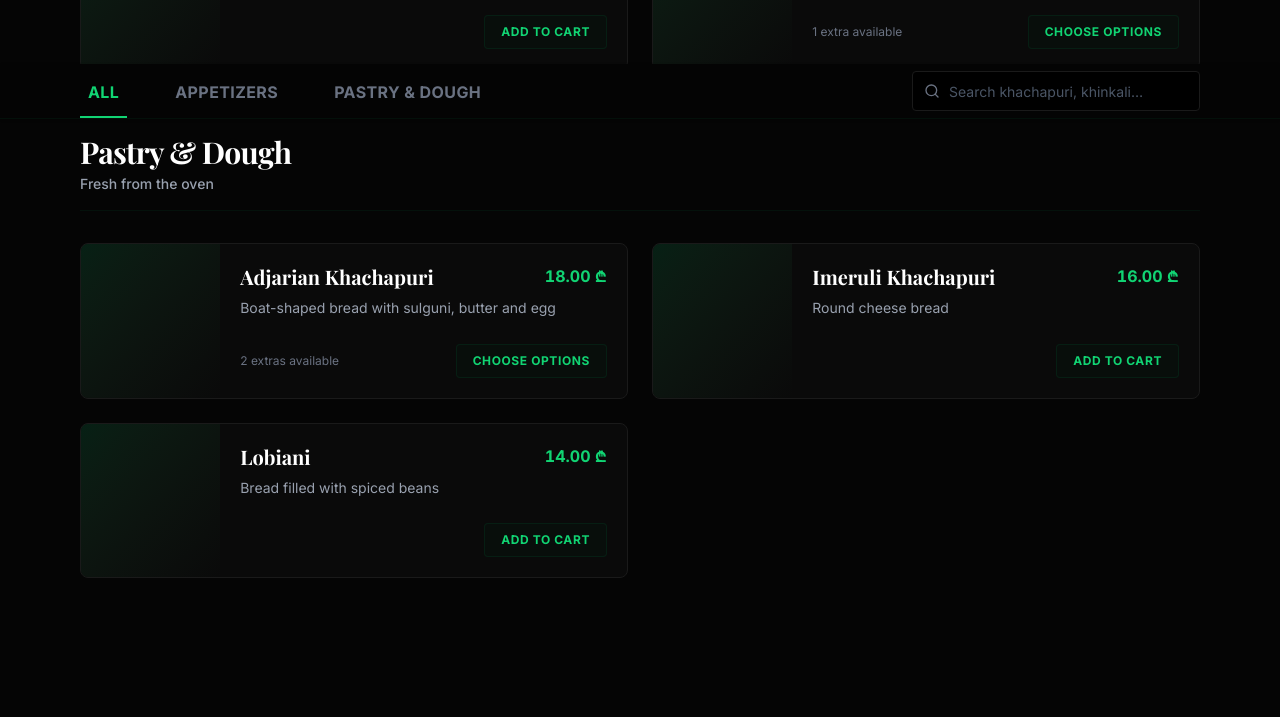
Menu page › adds a dish with modifiers from the options dialog
(page scrolled)
Step 1. Click the button with aria-label "Choose options for Adjarian Khachapuri" → point(531, 360), box 456,344 -> 607,378
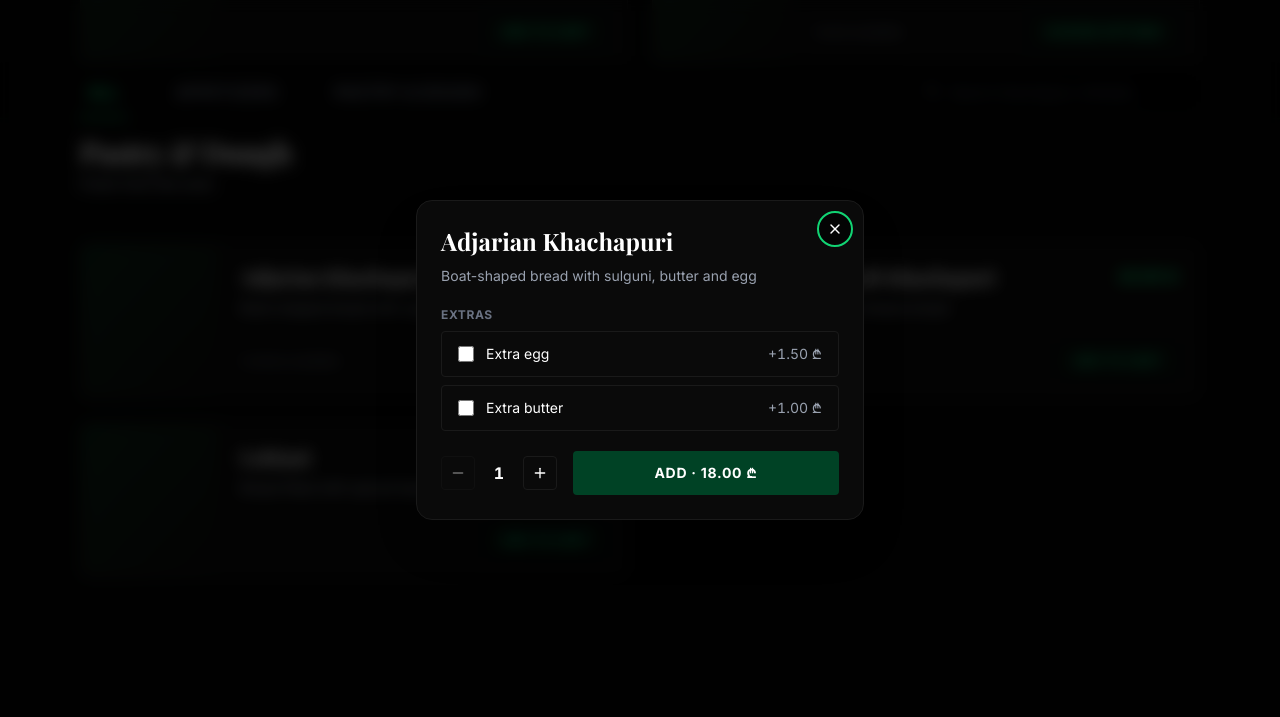
Step 2. Click the checkbox labelled "Extra egg +1.50 ₾" → point(466, 354), box 458,346 -> 474,362
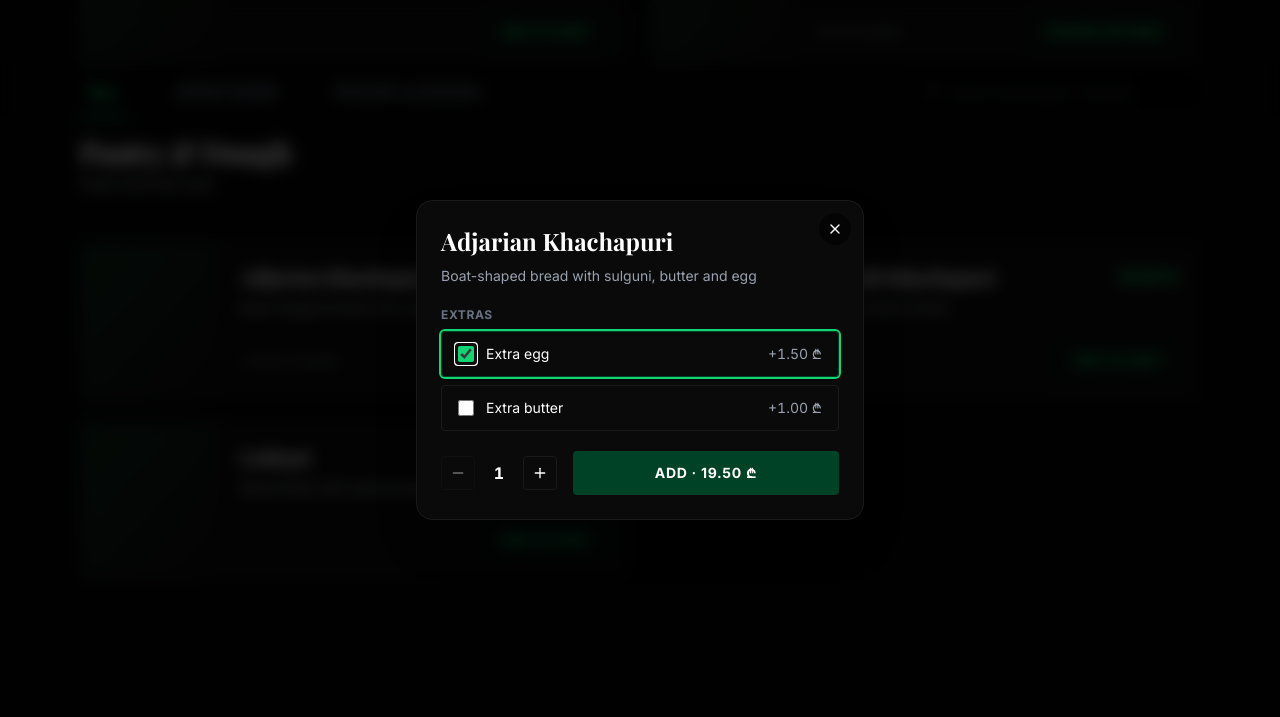
Step 3. Click the button named "Increase quantity" → point(540, 473), box 523,456 -> 557,490
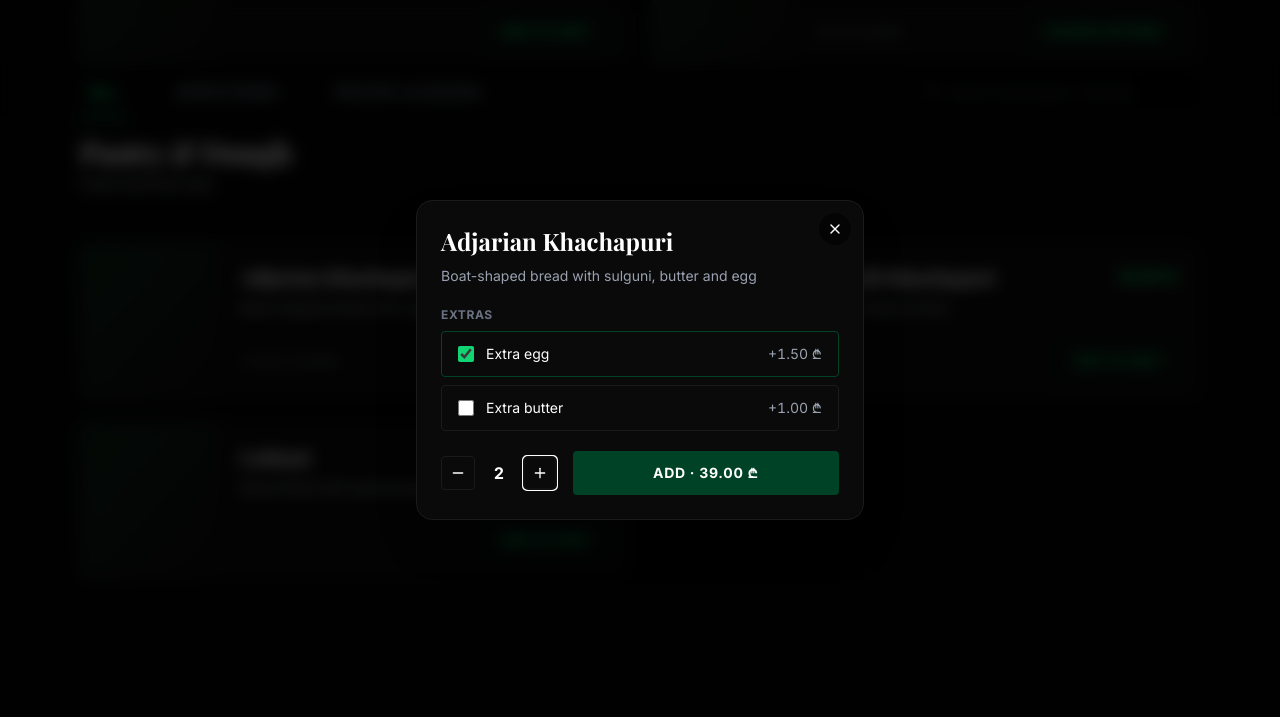
Step 4. Click the button "Add · 39.00 ₾" → point(706, 473), box 573,451 -> 839,495
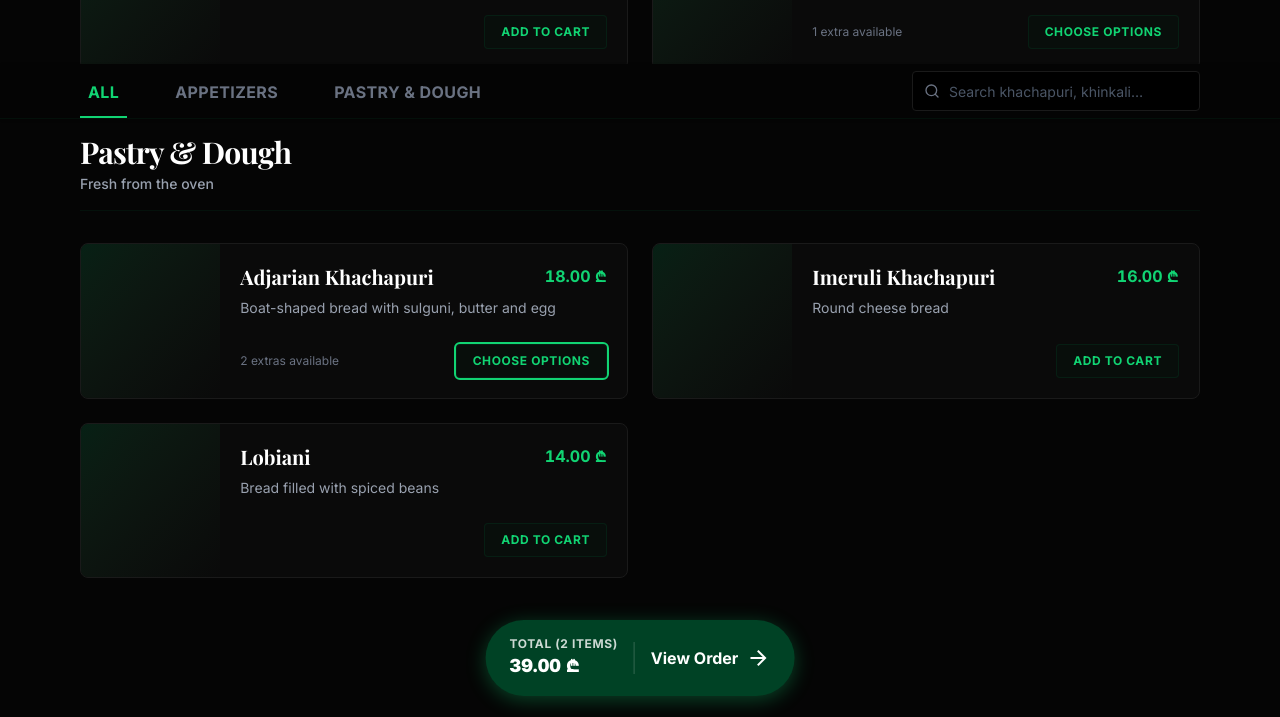
Now the dialog is gone
Now the button with aria-label "View order: 2 items, 39.00 ₾" is shown, box 486,620 -> 794,696
